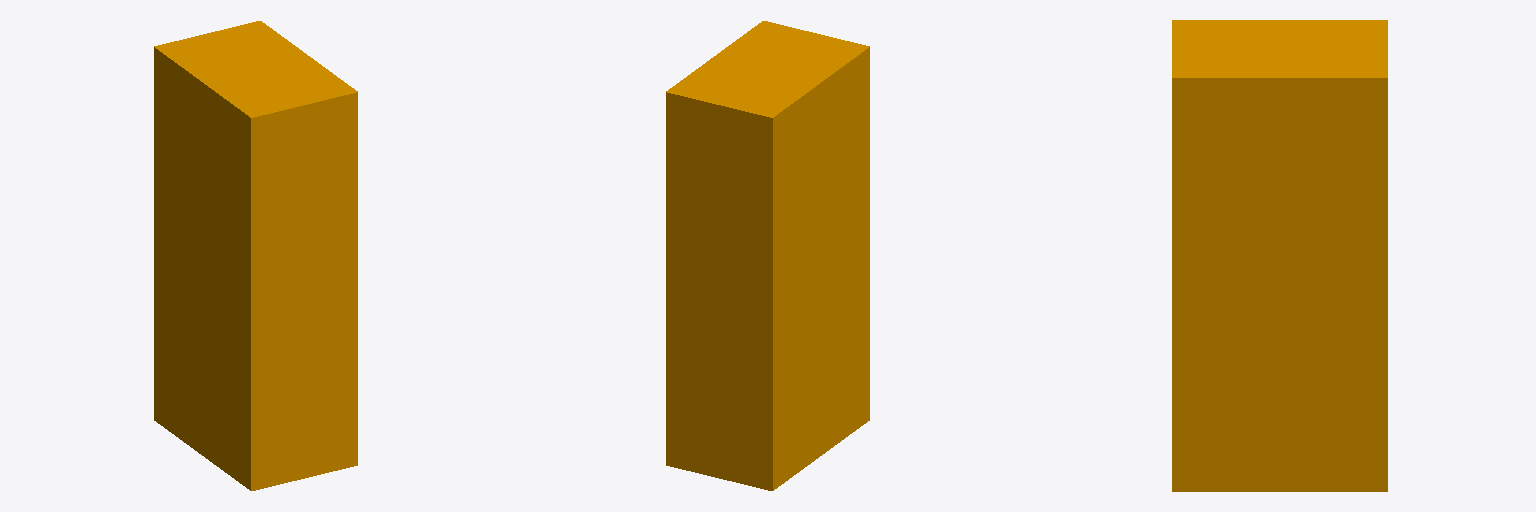
The robot description file, URDF, robot "milk_box":
<?xml version="1.0" ?> 
<robot name="milk_box">
  <link name="base_link">
  <inertial>
    <mass value="5.0" />
    <origin xyz="0 0 0.0" />
    <inertia  ixx="1.0" ixy="0.0"  ixz="0.0"  iyy="1.0"  iyz="0.0"  izz="1.0" />
  </inertial>
  <visual>
   <origin xyz="0 0 0.0" rpy="0 0 0" />
   <geometry>
     <mesh filename="package://cob_gazebo_worlds/Media/models/milk_box.dae"/>
   </geometry>
  </visual>
  <collision>
   <origin xyz="0 0 0.0" rpy="0 0 0 " />
   <geometry>
     <mesh filename="package://cob_gazebo_worlds/Media/models/milk_box.dae"/>
   </geometry>
  </collision>     
  </link>
</robot>

--- What the picture shows (computed from the rendered views, not written in the file) ---
Views: 3 orthographic renders of the robot side by side, from view 1: azimuth 30°, elevation 25°; view 2: azimuth 150°, elevation 25°; view 3: azimuth 270°, elevation 25°.
Robot: milk_box — 1 links, 0 joints (none); root link base_link; default pose: every joint at zero.
Visible links, largest first — view 1: base_link; view 2: base_link; view 3: base_link.
Boxes of the visible links, x1=… form: base_link: x1=154, y1=21, x2=357, y2=490; base_link: x1=666, y1=21, x2=869, y2=490; base_link: x1=1172, y1=20, x2=1387, y2=491.
Size in the robot's own frame: 0.0006 by 0.001 by 0.002 metres.
1 mesh visuals loaded from 1 distinct referenced files (1 Collada DAE).